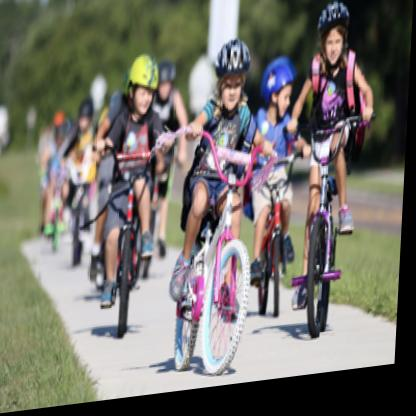With Helmet: (211, 38, 254, 123), (317, 4, 354, 77), (124, 56, 160, 125)
